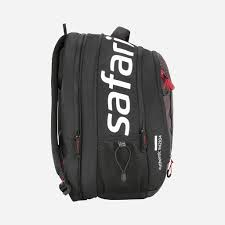backpack: (50, 22, 174, 201)
